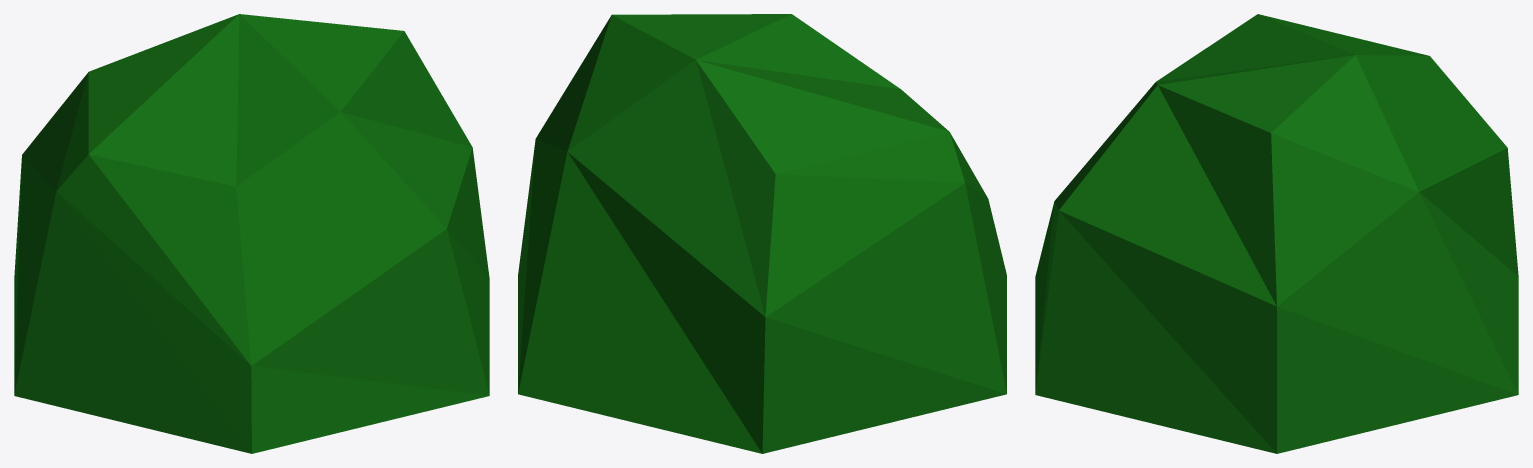
File: Bush_2_Dark.fbx
3 renders of one model, left to right at view 1: azimuth 30°, elevation 25°; view 2: azimuth 150°, elevation 25°; view 3: azimuth 270°, elevation 25°, orthographic. The views are drawn at different scales.
Visible parts, largest first — view 1: Bush_2_Dark; view 2: Bush_2_Dark; view 3: Bush_2_Dark.
Boxes of the visible parts, left/top/right/bottom form: Bush_2_Dark: left=14, top=14, right=489, bottom=453; Bush_2_Dark: left=518, top=14, right=1006, bottom=453; Bush_2_Dark: left=1035, top=14, right=1518, bottom=453.
Size of the model in its own units: 2 by 1.16 by 1.73.
